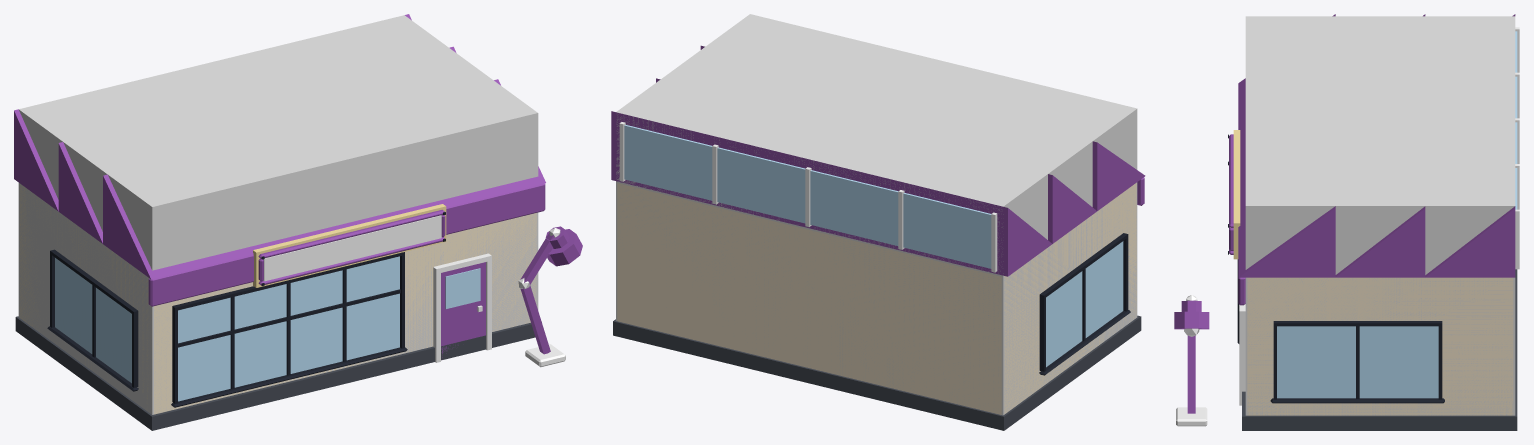
Rendered from agency-exterior.glb.
The picture shows the model from 3 angles, left to right: view 1: azimuth 30°, elevation 25°; view 2: azimuth 150°, elevation 25°; view 3: azimuth 270°, elevation 25°; orthographic projection.
Visible parts, largest first — view 1: COL_body, agency, sign_board, sign_frame; view 2: agency, COL_body; view 3: COL_body, agency, sign_frame.
Part boxes in pixels (bbox=[...]): COL_body: bbox=[18, 15, 538, 414]; agency: bbox=[14, 14, 582, 430]; sign_board: bbox=[263, 215, 441, 281]; sign_frame: bbox=[253, 204, 446, 287]; agency: bbox=[611, 45, 1145, 430]; COL_body: bbox=[616, 14, 1137, 415]; COL_body: bbox=[1245, 16, 1515, 415]; agency: bbox=[1174, 14, 1519, 430]; sign_frame: bbox=[1228, 130, 1240, 259].
Bounding box in the file's own units: 10.56 × 5.5 × 7.69.
